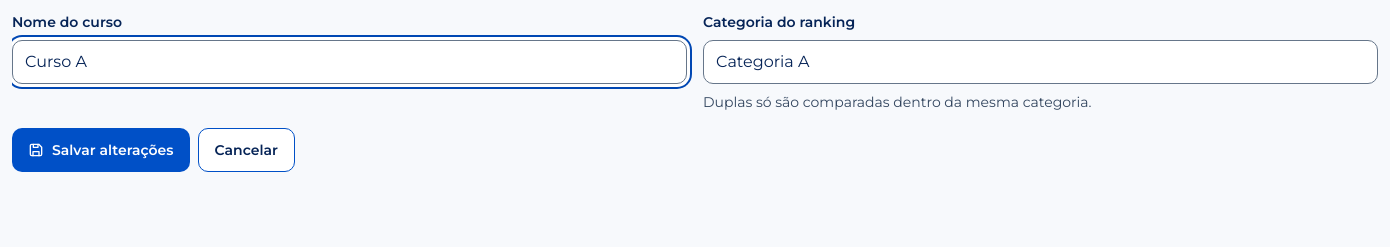
FormCurso — edição (FR-001) › erro do servidor aparece e não há confirmação
Click the button "Salvar alterações".
click(101, 150)  # box [12,128,190,172]
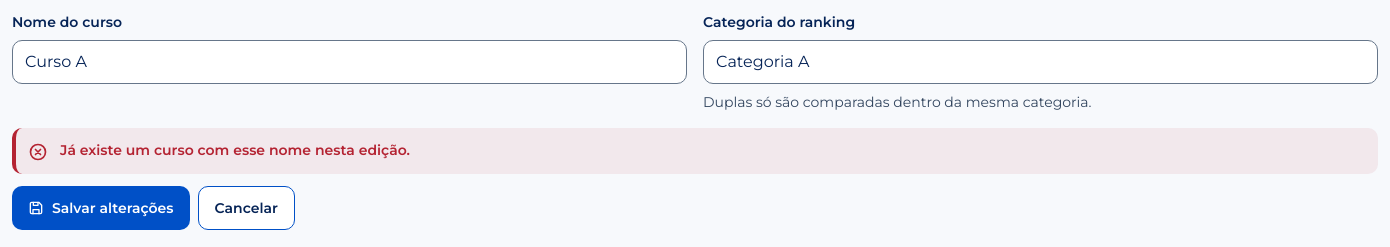
Check: the button "Cancelar" is shown, box [198,186,295,230]
Check: the message shows "Já existe um curso", box [60,141,410,159]
